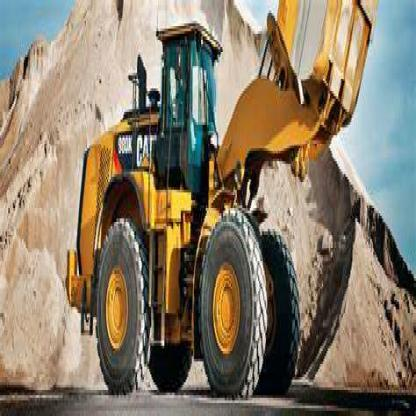bull_dozer/loader/grader: (61, 0, 383, 406)
